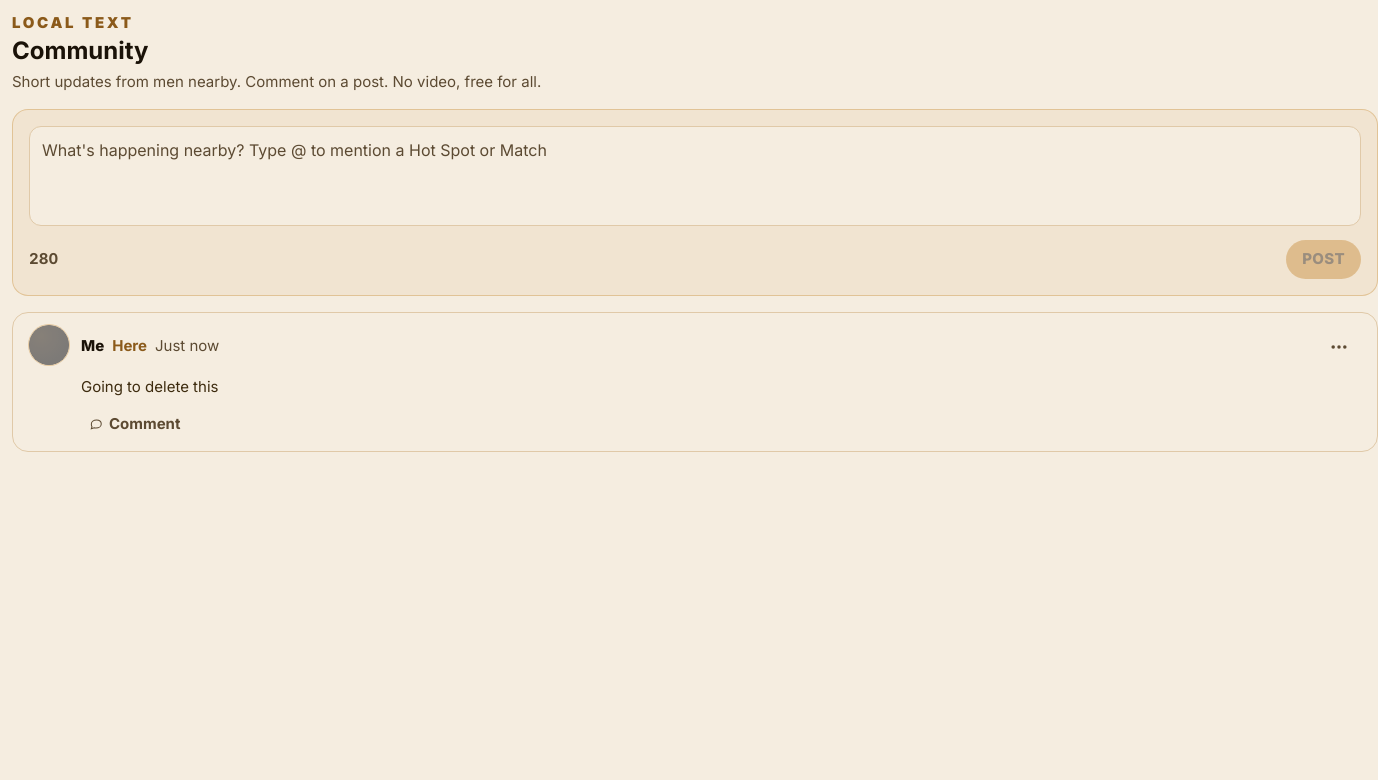
Test: CommunityFeed Mention Autocomplete › allows author to delete own post with confirmation
The width and height of the screenshot is (1378, 780).
Click the button with test id "community-post-more-post-mine-1". click: (1339, 346)
box: [1317,324,1361,368]
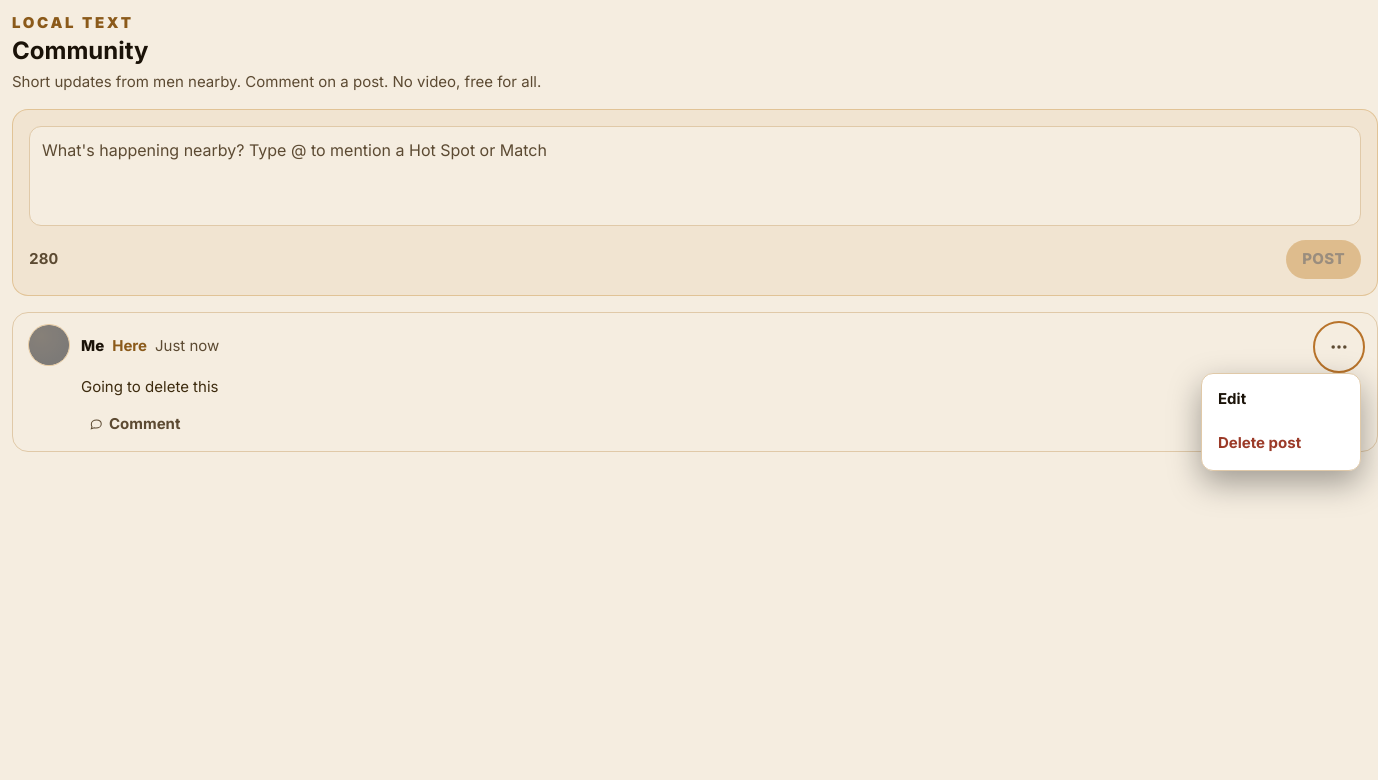
Click the menu item with test id "community-post-delete-post-mine-1". click: (1281, 444)
box: [1206,422,1356,466]
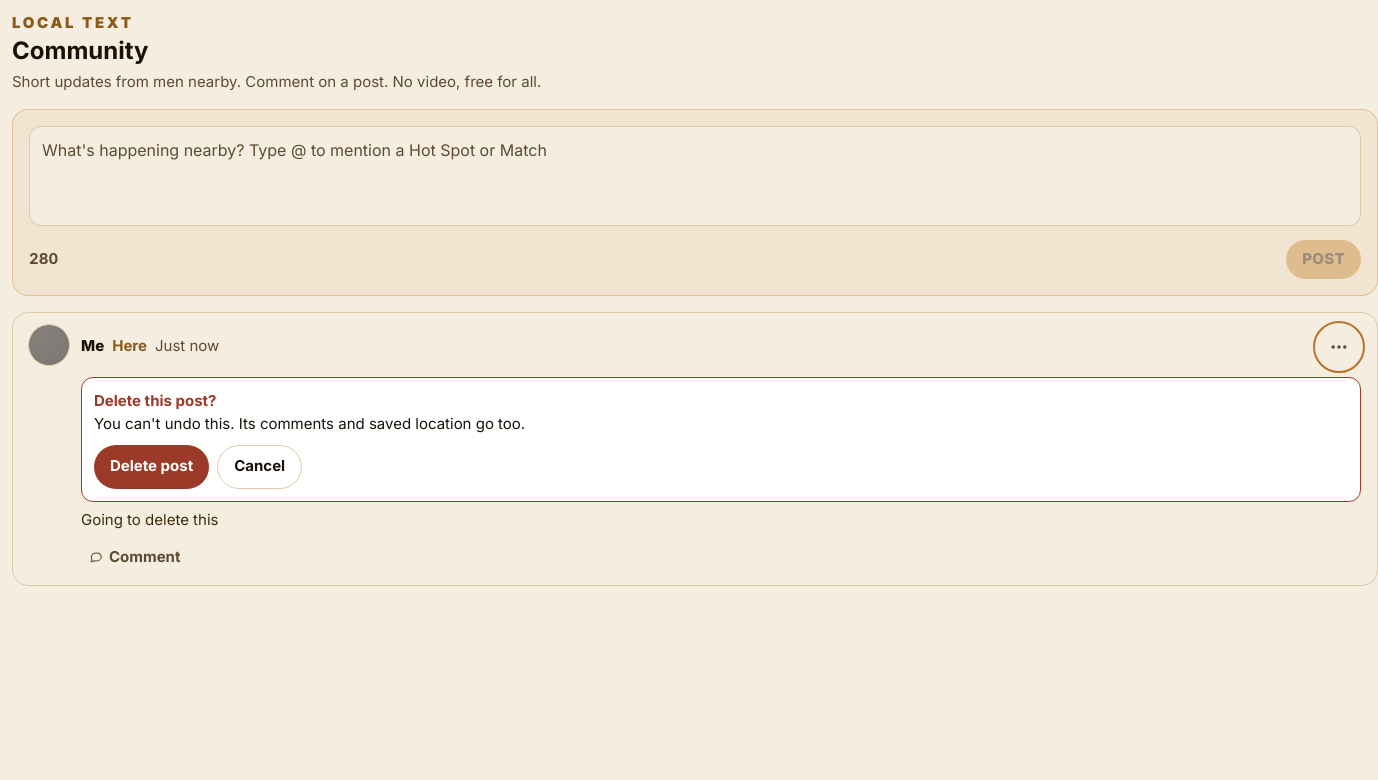
Expected: the element with test id "community-post-delete-confirm-post-mine-1" is shown, [81,376,1361,502]
Click the button with test id "community-post-delete-btn-post-mine-1". click: (152, 467)
box: [94,445,209,489]
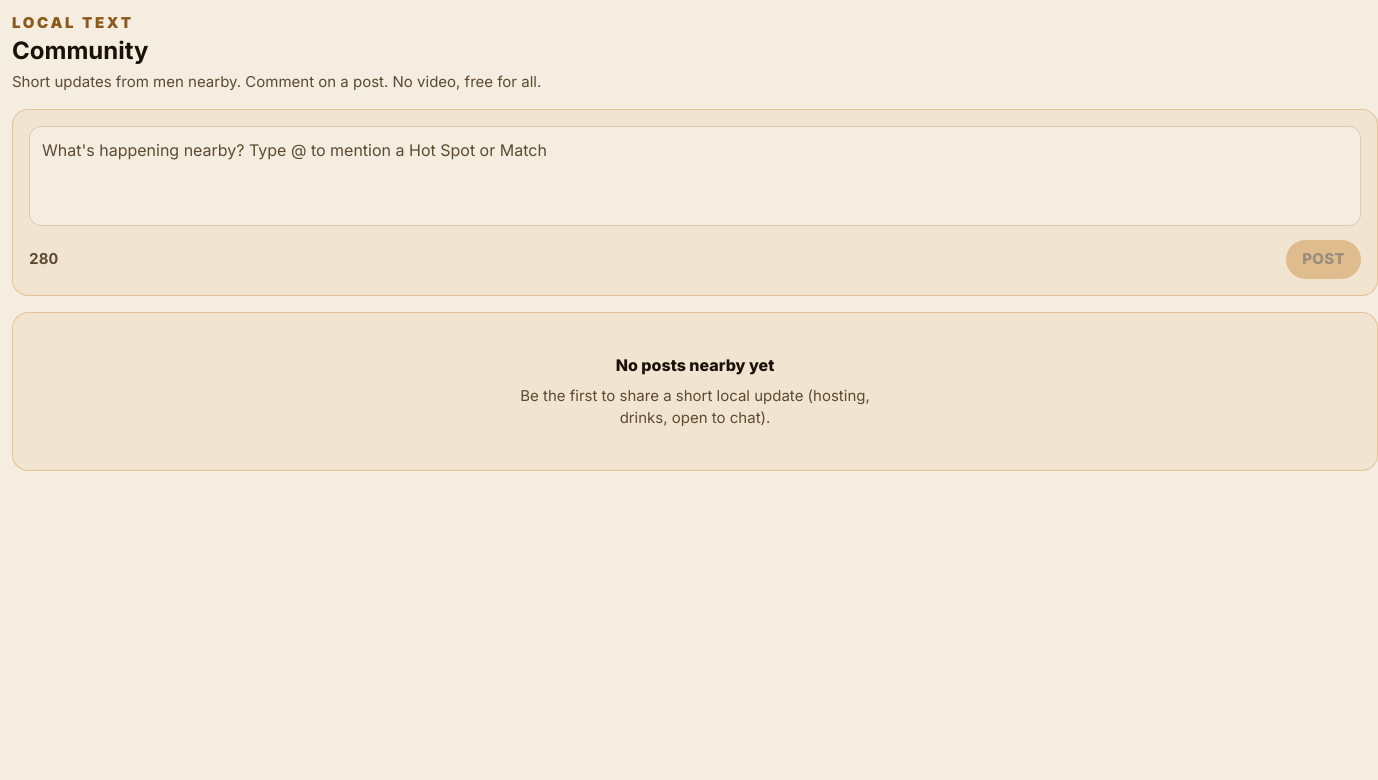
Expected: the text "Going to delete this" is gone
